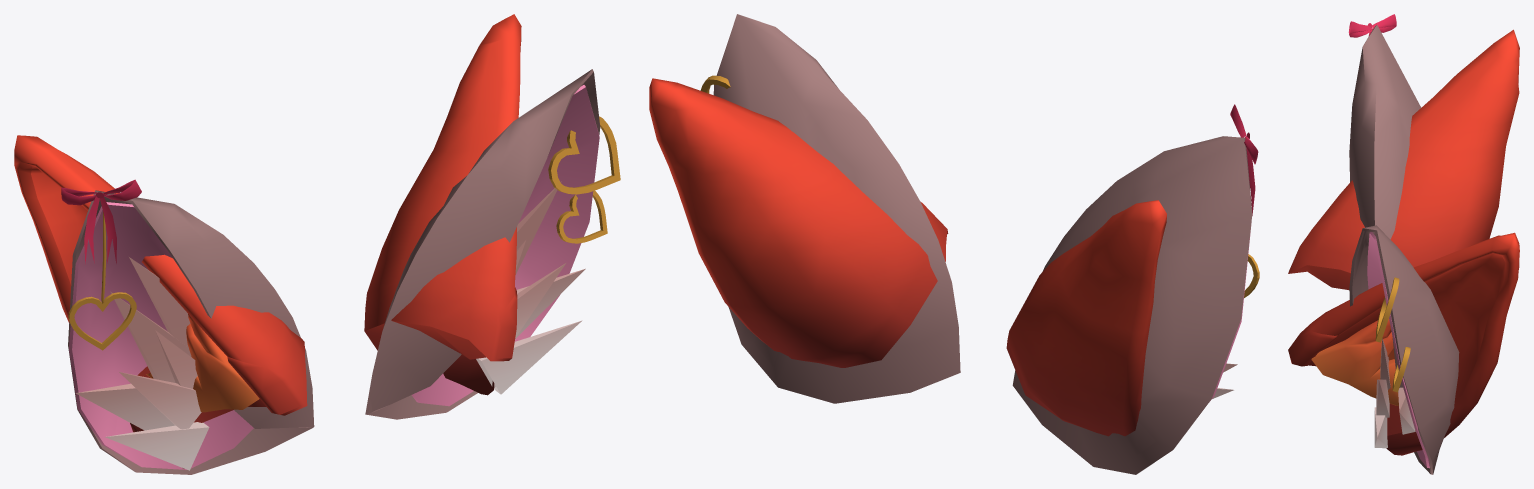
Rendered from ObbyGame_Characters_ears_.fbx.
3 renders of one model, left to right at view 1: azimuth 30°, elevation 25°; view 2: azimuth 150°, elevation 25°; view 3: azimuth 270°, elevation 25°, orthographic. The views are drawn at different scales.
Visible parts, largest first — view 1: ObbyGame_Characters_ear_000, ObbyGame_Characters_ear_001; view 2: ObbyGame_Characters_ear_001, ObbyGame_Characters_ear_000; view 3: ObbyGame_Characters_ear_001, ObbyGame_Characters_ear_000.
Boxes of the visible parts, bbox=[...] form: ObbyGame_Characters_ear_000: bbox=[61, 69, 620, 474]; ObbyGame_Characters_ear_001: bbox=[14, 14, 521, 468]; ObbyGame_Characters_ear_001: bbox=[649, 78, 1166, 436]; ObbyGame_Characters_ear_000: bbox=[700, 14, 1259, 474]; ObbyGame_Characters_ear_001: bbox=[1288, 29, 1519, 455]; ObbyGame_Characters_ear_000: bbox=[1348, 14, 1459, 474].
Size of the model in its own units: 230 by 140 by 99.29.
1 material, 1 textured.
